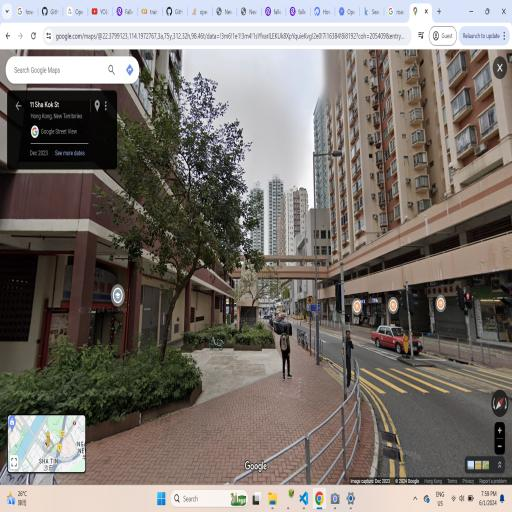Roads: (273, 314, 512, 471)
Trees: (127, 86, 244, 380)
